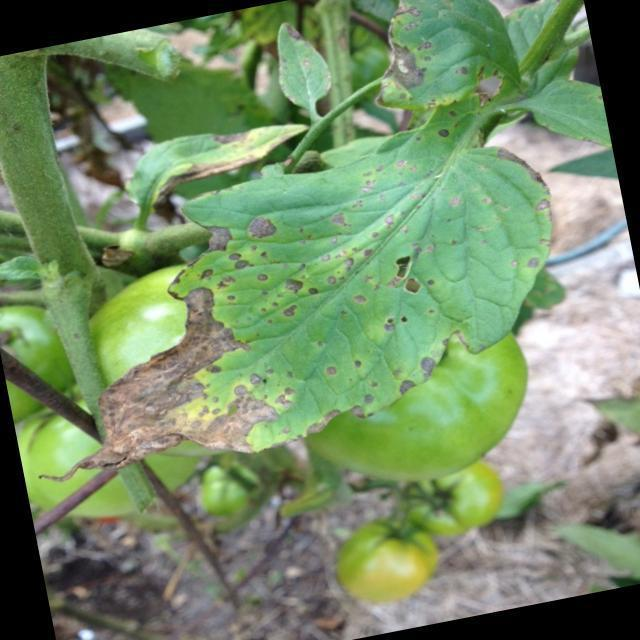Bacterial Spot: (212, 134, 545, 430), (360, 0, 543, 125), (260, 14, 344, 116)
